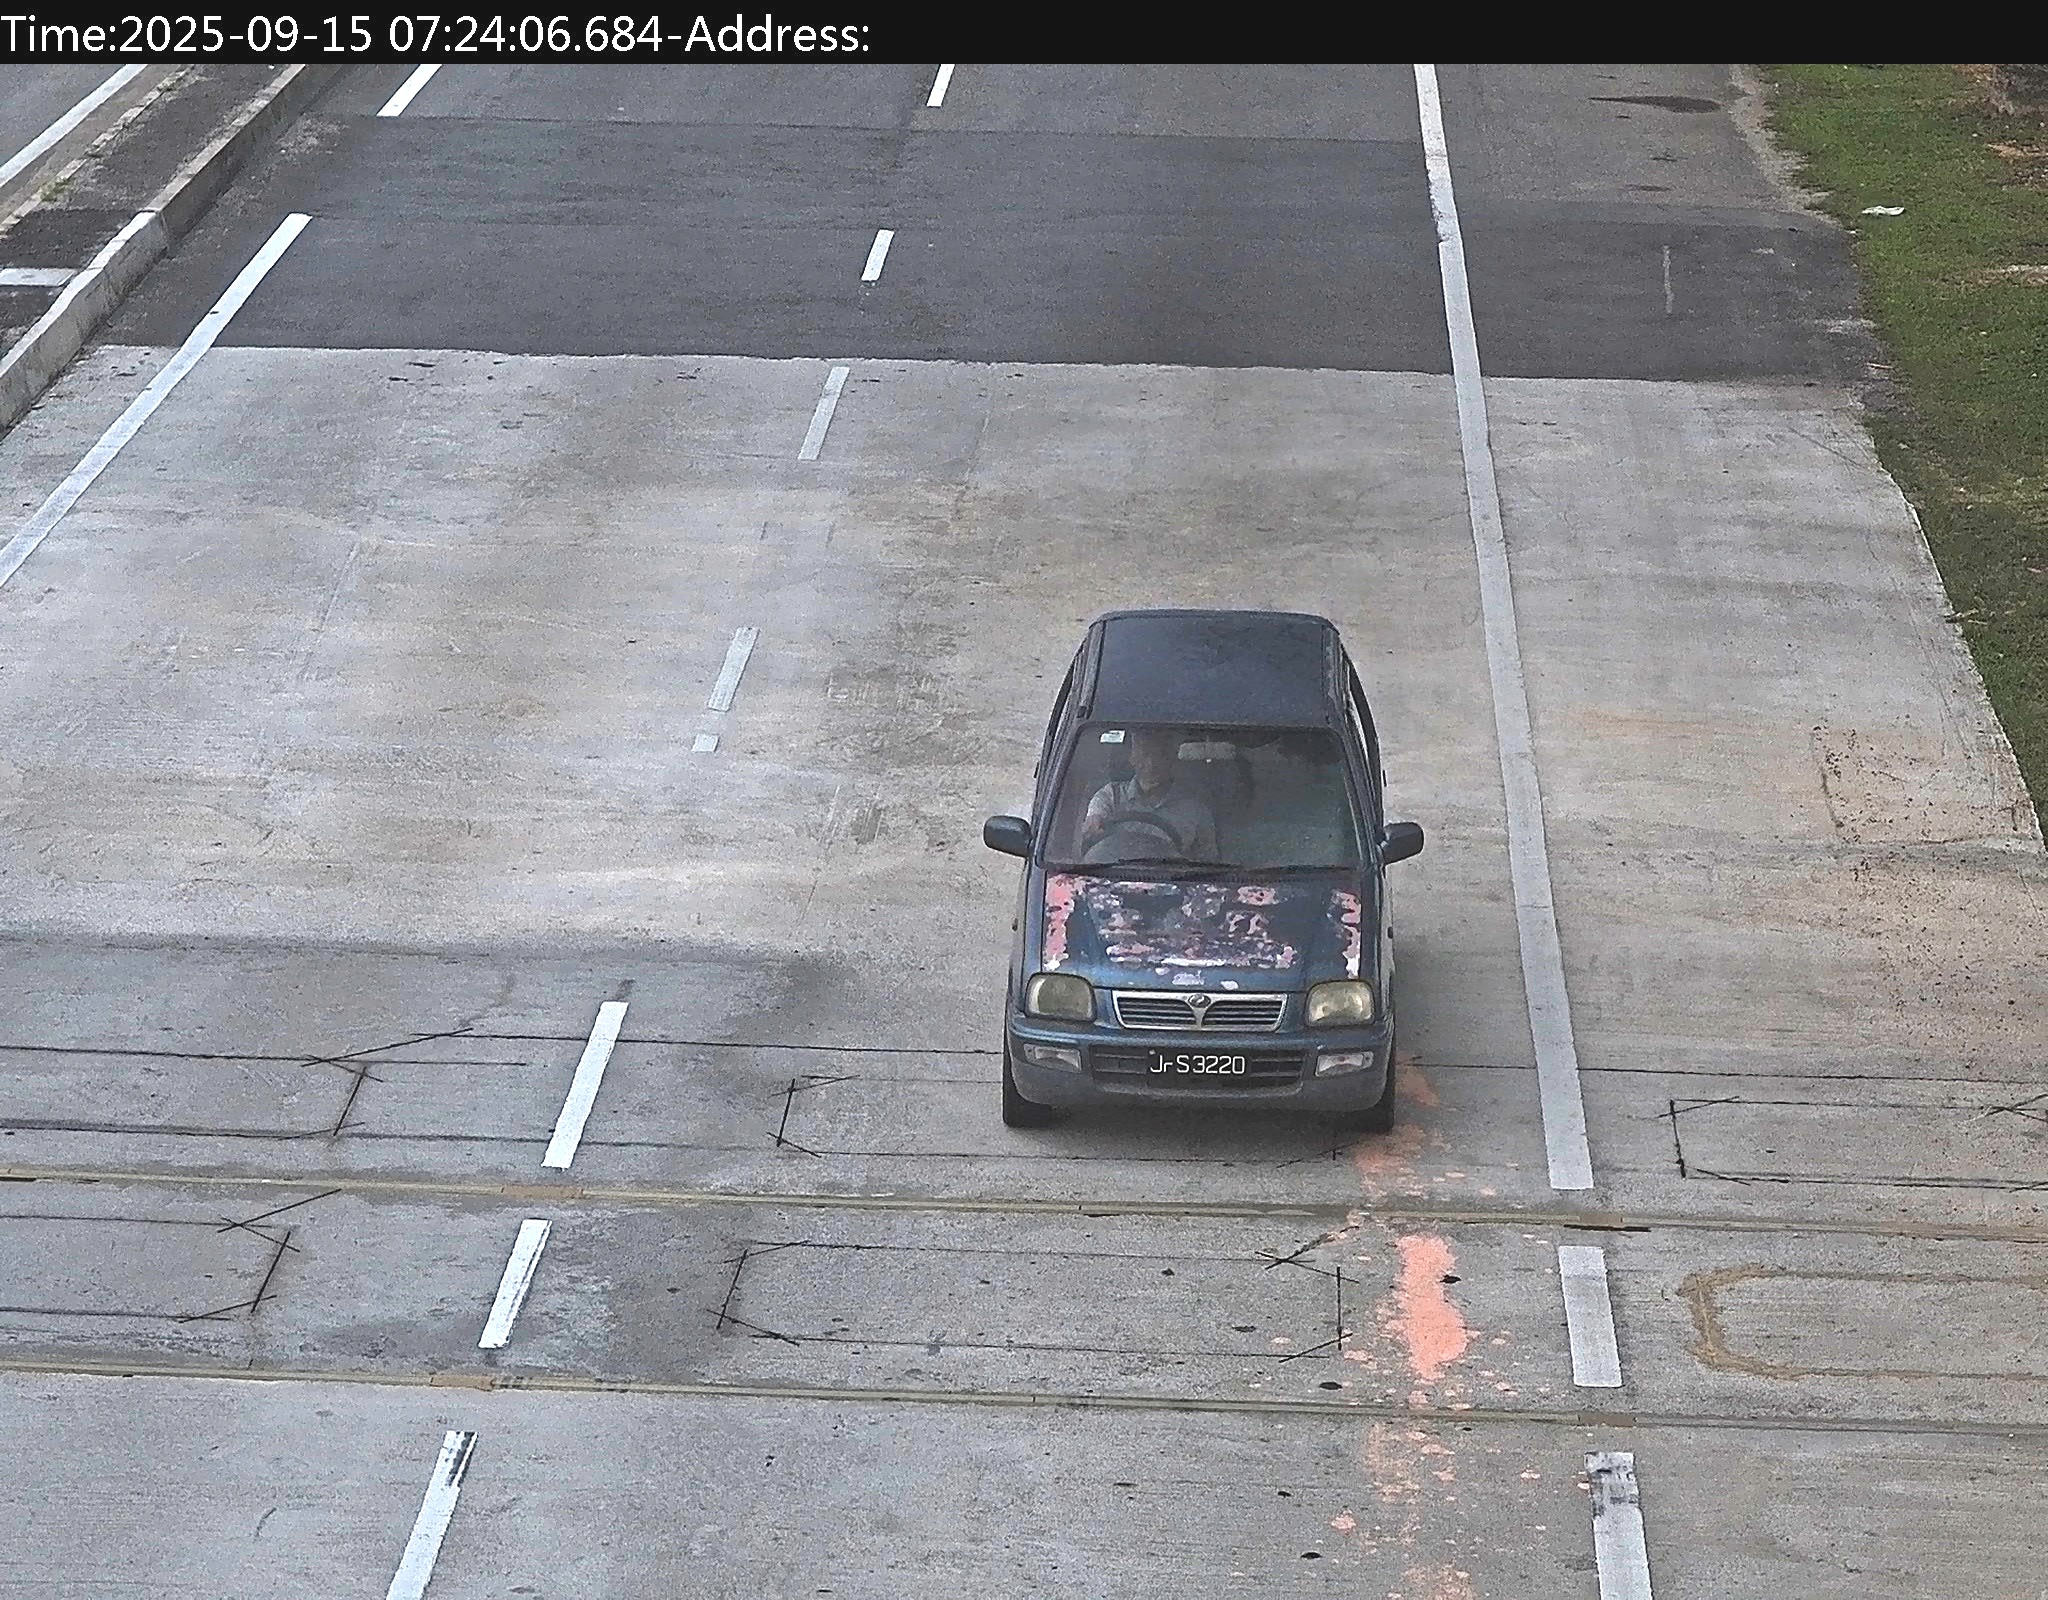class1_lightVehicle: (995, 610, 1406, 1137)
license_plate: (1145, 1048, 1249, 1080)
